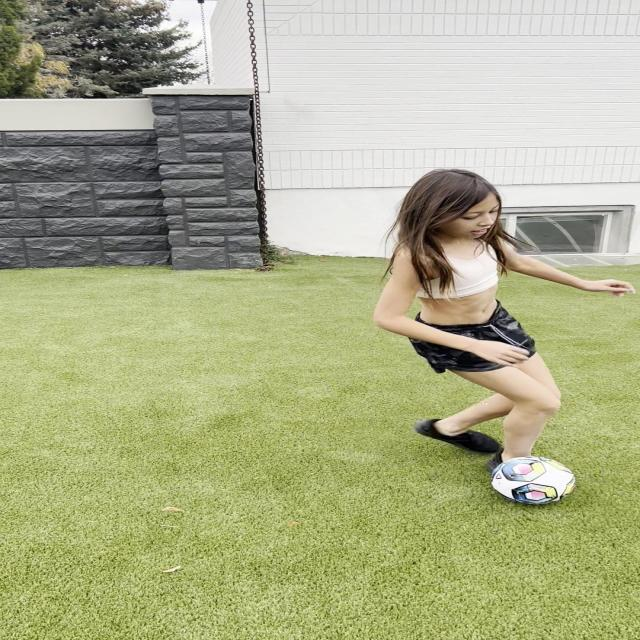Soccer Ball: (488, 456, 573, 506)
